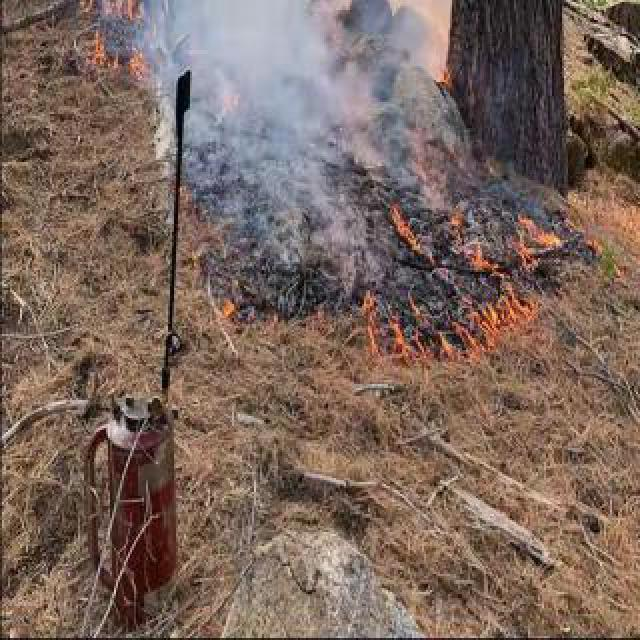Fire: (356, 284, 540, 372), (390, 202, 554, 278), (216, 282, 244, 334)
Smoke: (145, 0, 461, 251)
